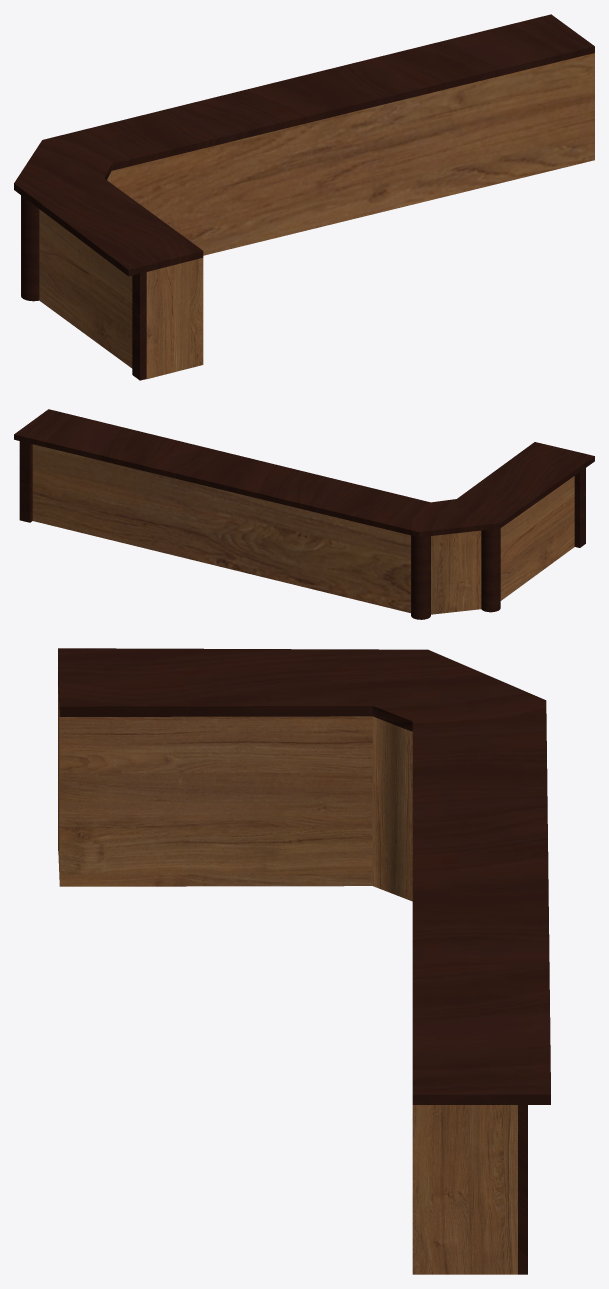
The model's file is Bar.obj.
3 views of the same model, one above another, from view 1: azimuth 30°, elevation 25°; view 2: azimuth 150°, elevation 25°; view 3: azimuth 270°, elevation 25° (orthographic). The views are drawn at different scales.
Parts seen in each view (by area): view 1: pCube5; view 2: pCube5; view 3: pCube5.
Part boxes in pixels (left/top/right/bottom): pCube5: left=14, top=14, right=594, bottom=380; pCube5: left=14, top=409, right=594, bottom=619; pCube5: left=58, top=648, right=550, bottom=1274.
Size of the model in its own units: 549 by 104 by 256.
